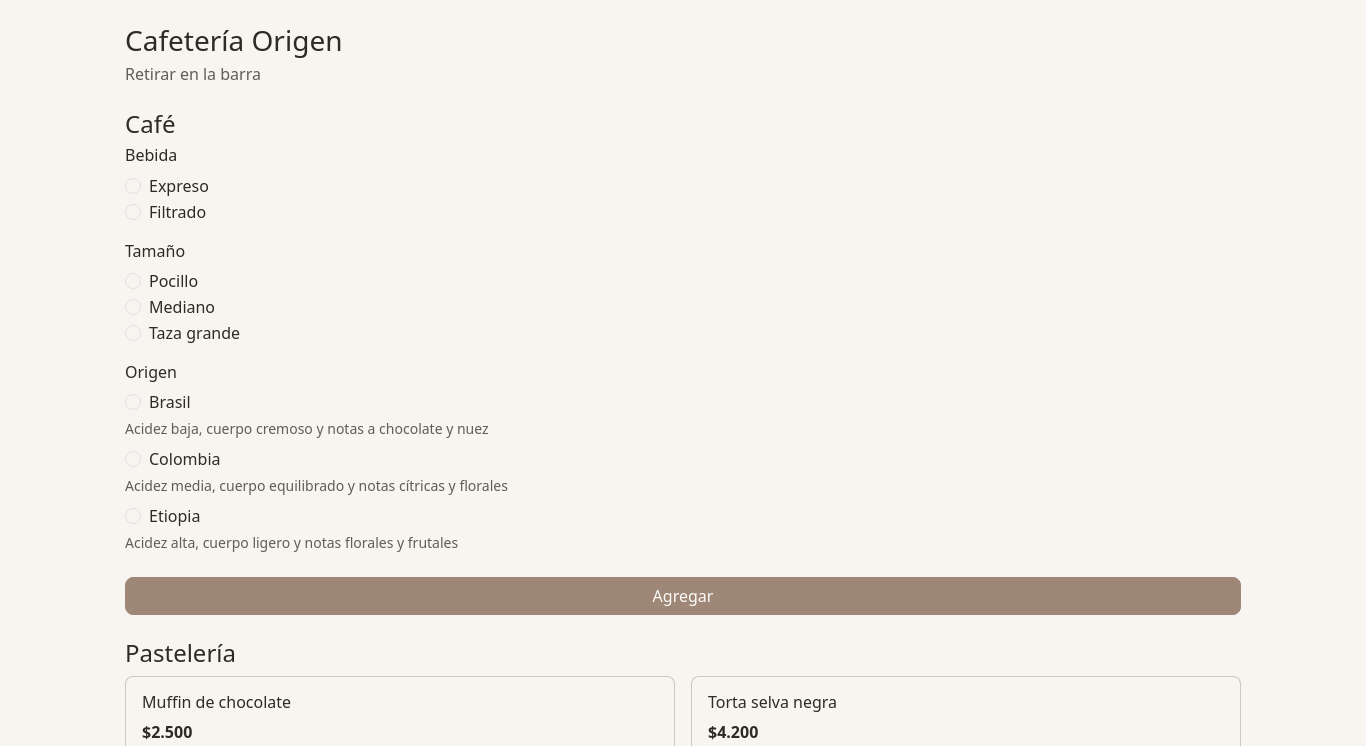
Test: Confirmar pedido › reintenta después de un 500 y confirma el pedido
Click the radio button labelled "Expreso".
click(133, 186)  # box [125,178,141,194]
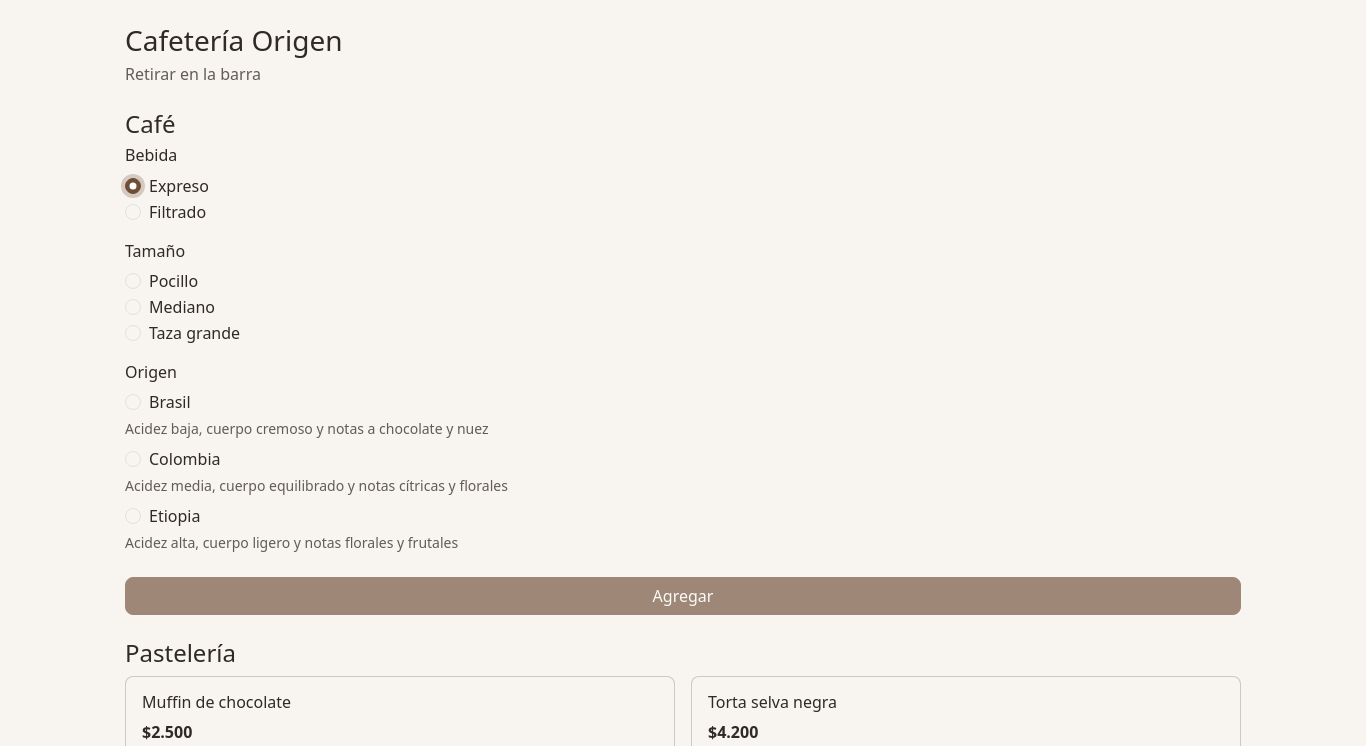
Click the radio button labelled "Mediano".
click(133, 307)  # box [125,299,141,315]
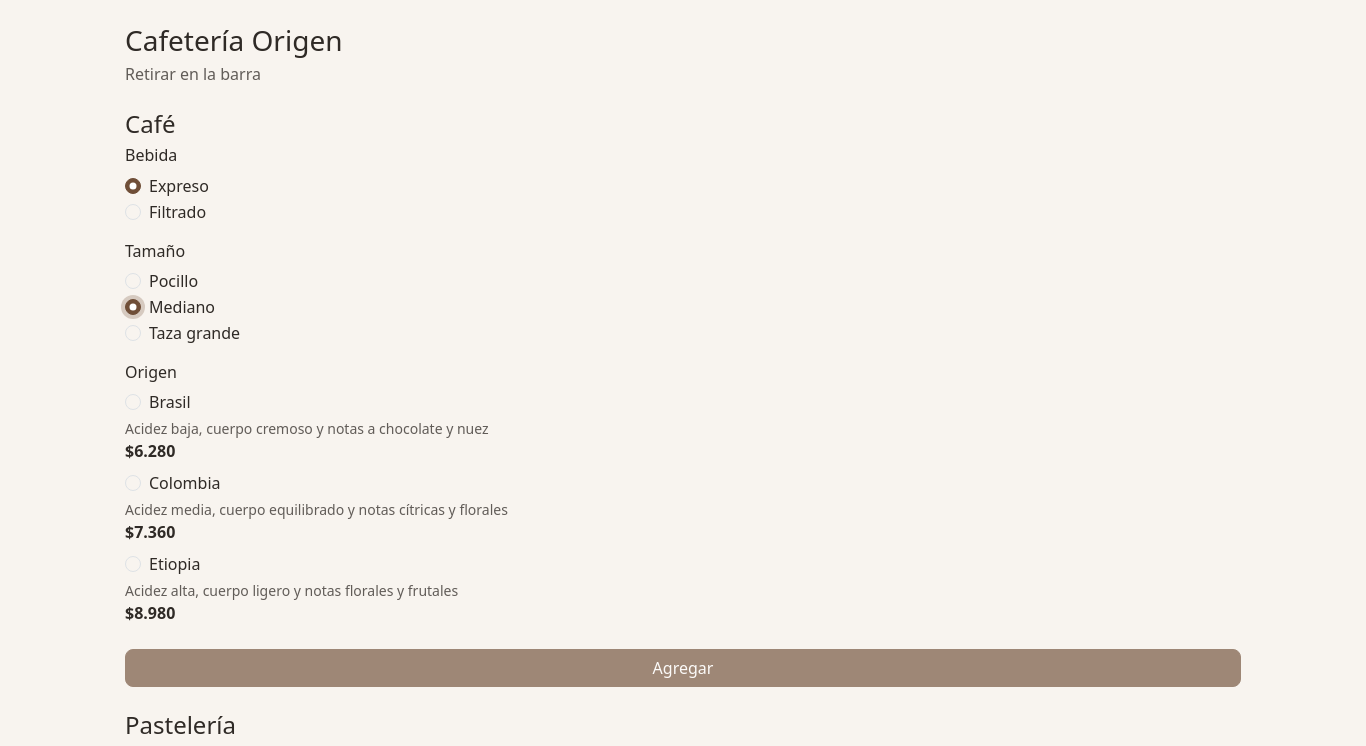
Click the radio button labelled "Colombia".
click(133, 483)  # box [125,475,141,491]
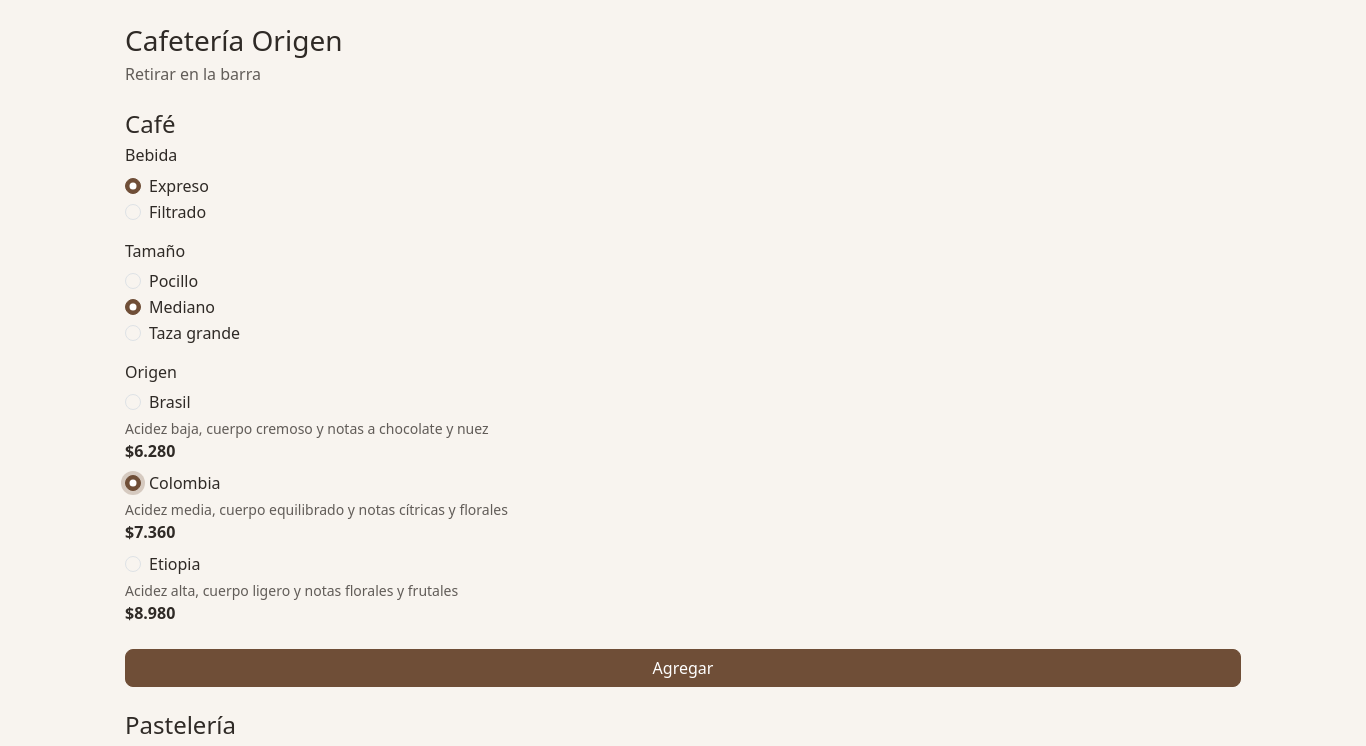
Click the button "Agregar".
click(683, 668)  # box [125,649,1241,687]
(page scrolled)
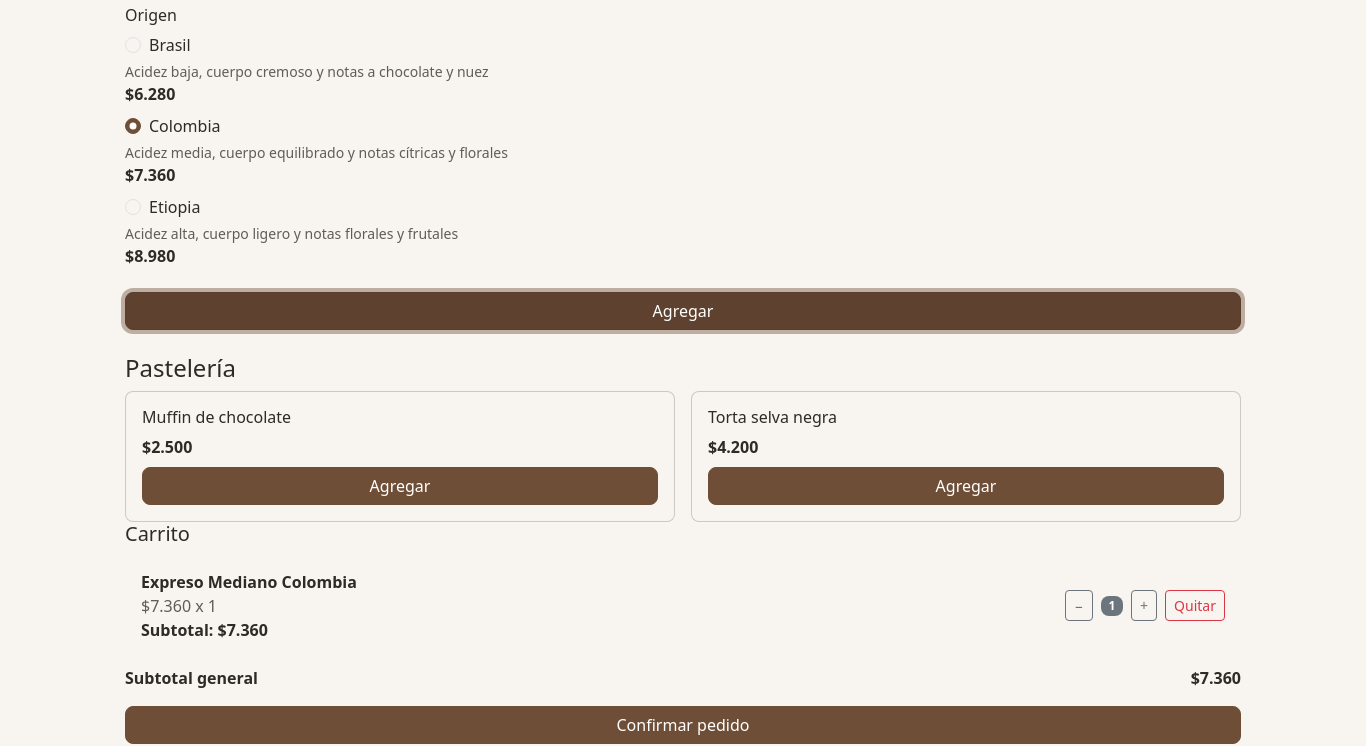
Click the button "Confirmar pedido".
click(683, 725)  # box [125,706,1241,744]
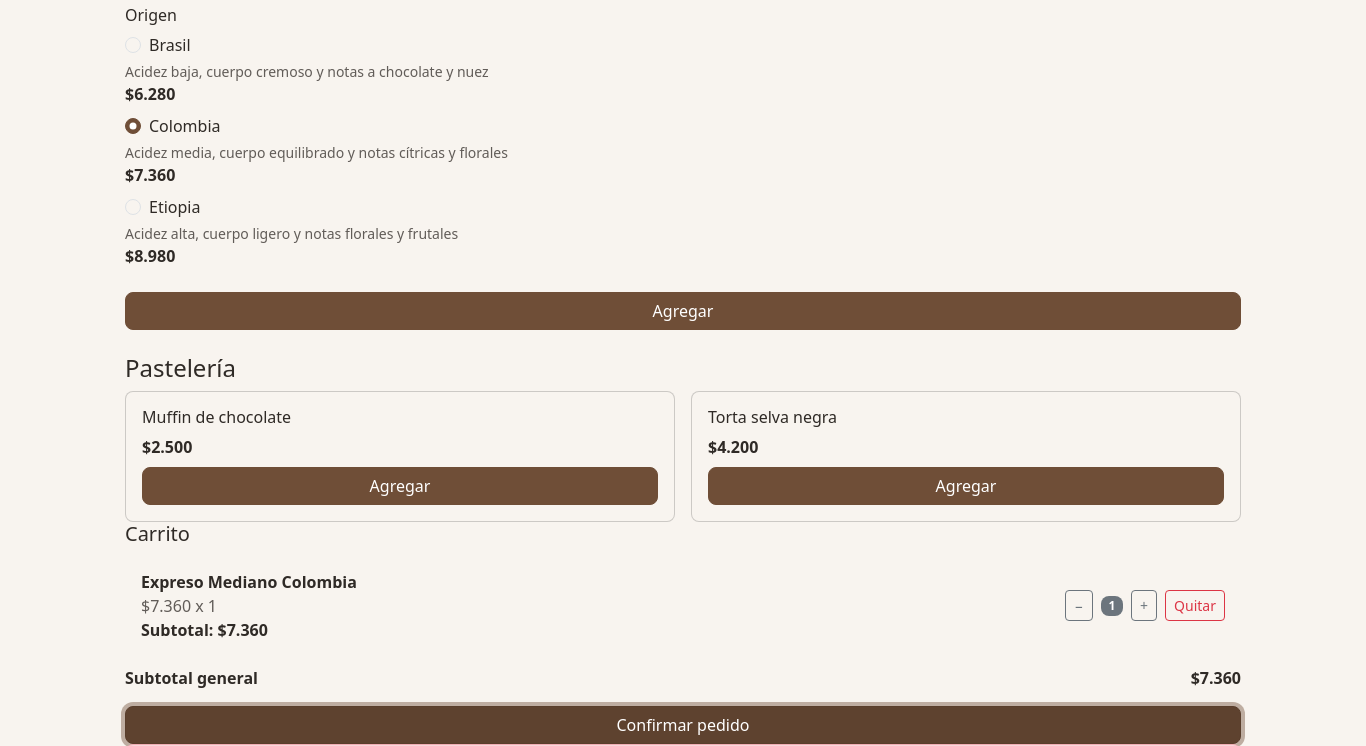
Expected: the text "El carrito está vacío" is not shown
Click the button "Confirmar pedido".
click(683, 725)  # box [125,706,1241,744]
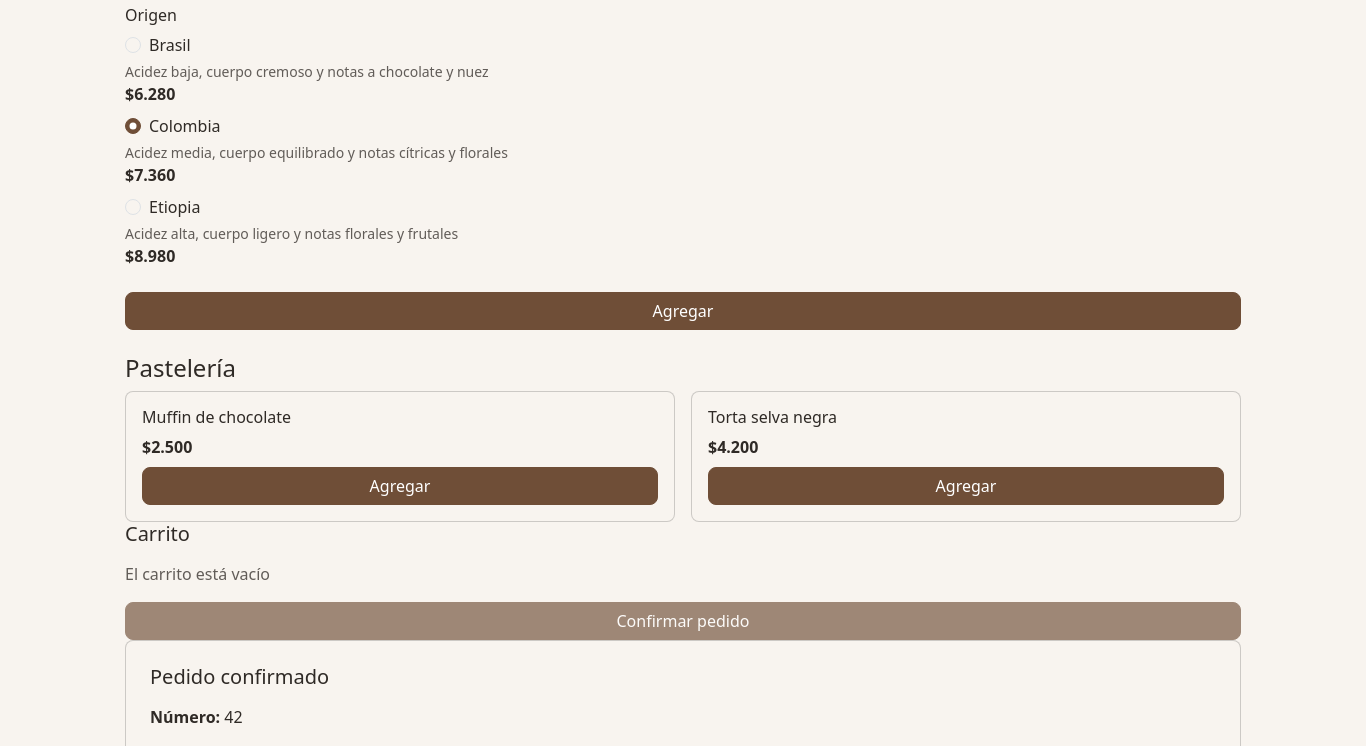
Result: the text "42" is shown at [224,706,243,728]
Result: the text "El carrito está vacío" is shown at [125,563,270,585]
